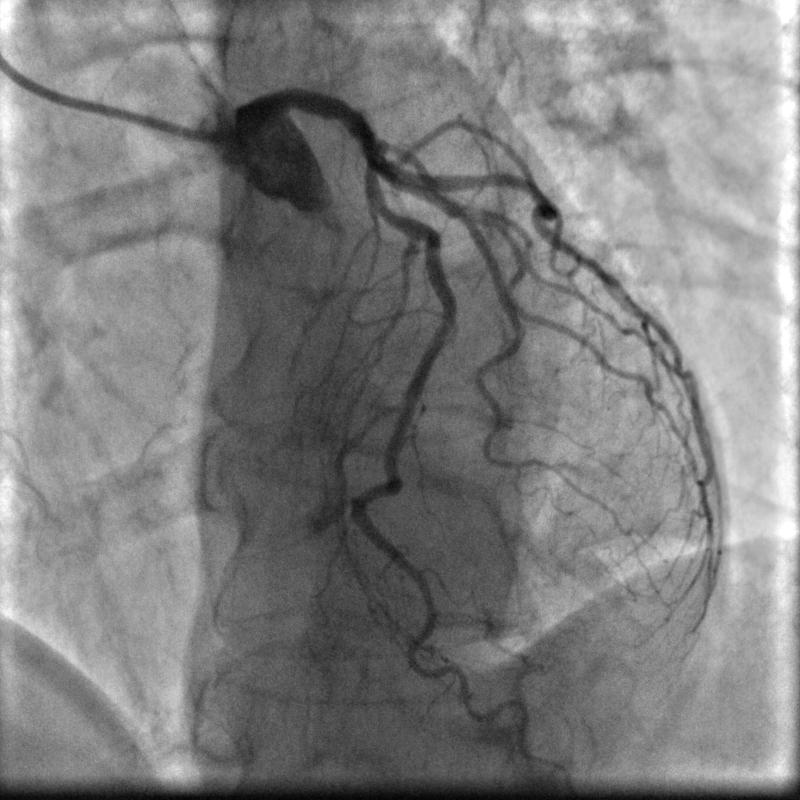Stenosis: (373, 198, 402, 228)
